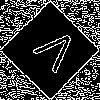V: (25, 25, 82, 81)
